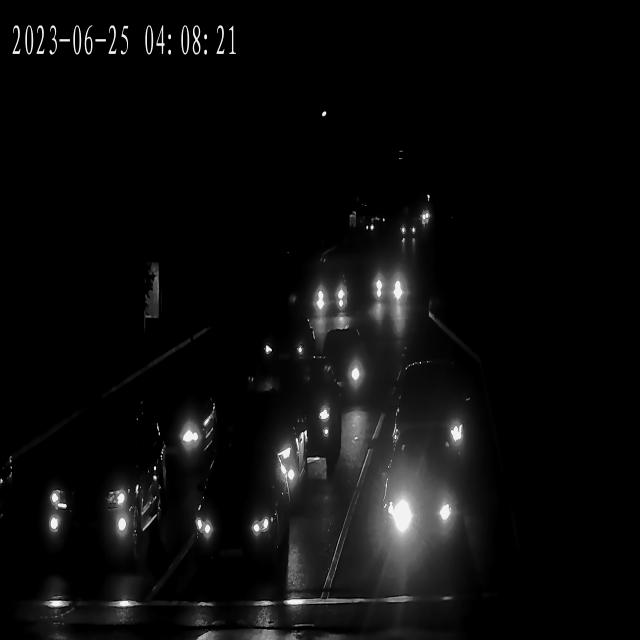Car: (20, 422, 163, 554), (172, 461, 285, 580), (396, 365, 472, 494), (130, 384, 221, 481), (259, 373, 342, 470), (238, 396, 312, 502), (380, 464, 458, 546), (321, 332, 380, 400), (254, 323, 311, 371), (364, 264, 408, 304), (314, 274, 354, 314), (398, 221, 418, 239), (396, 224, 416, 241), (415, 211, 433, 227)
